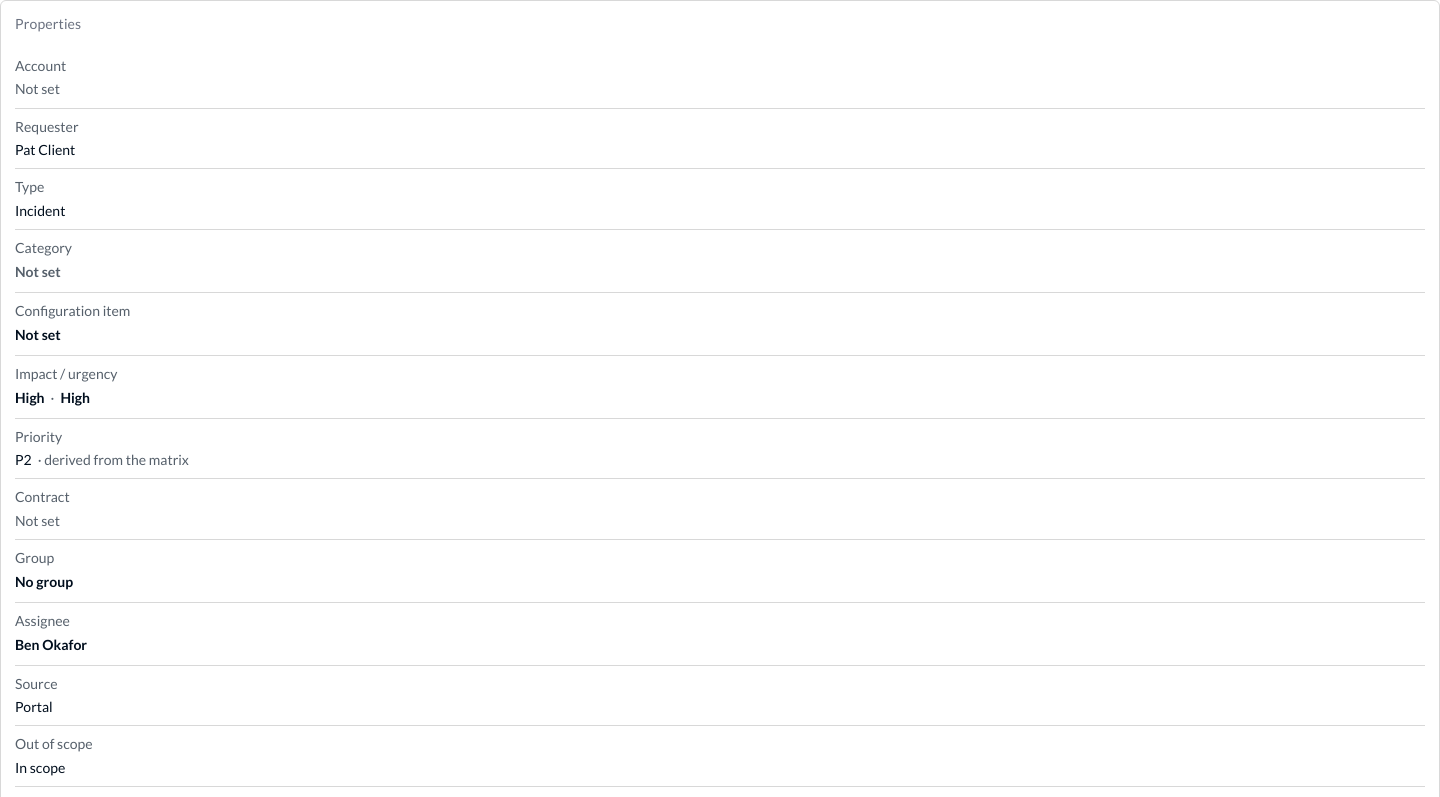
PropertiesPanel reassignment › words the refusal when the group has been retired underneath the desk
Step 1. Click the button "No group" → (44, 582), box 12,571 -> 1428,593
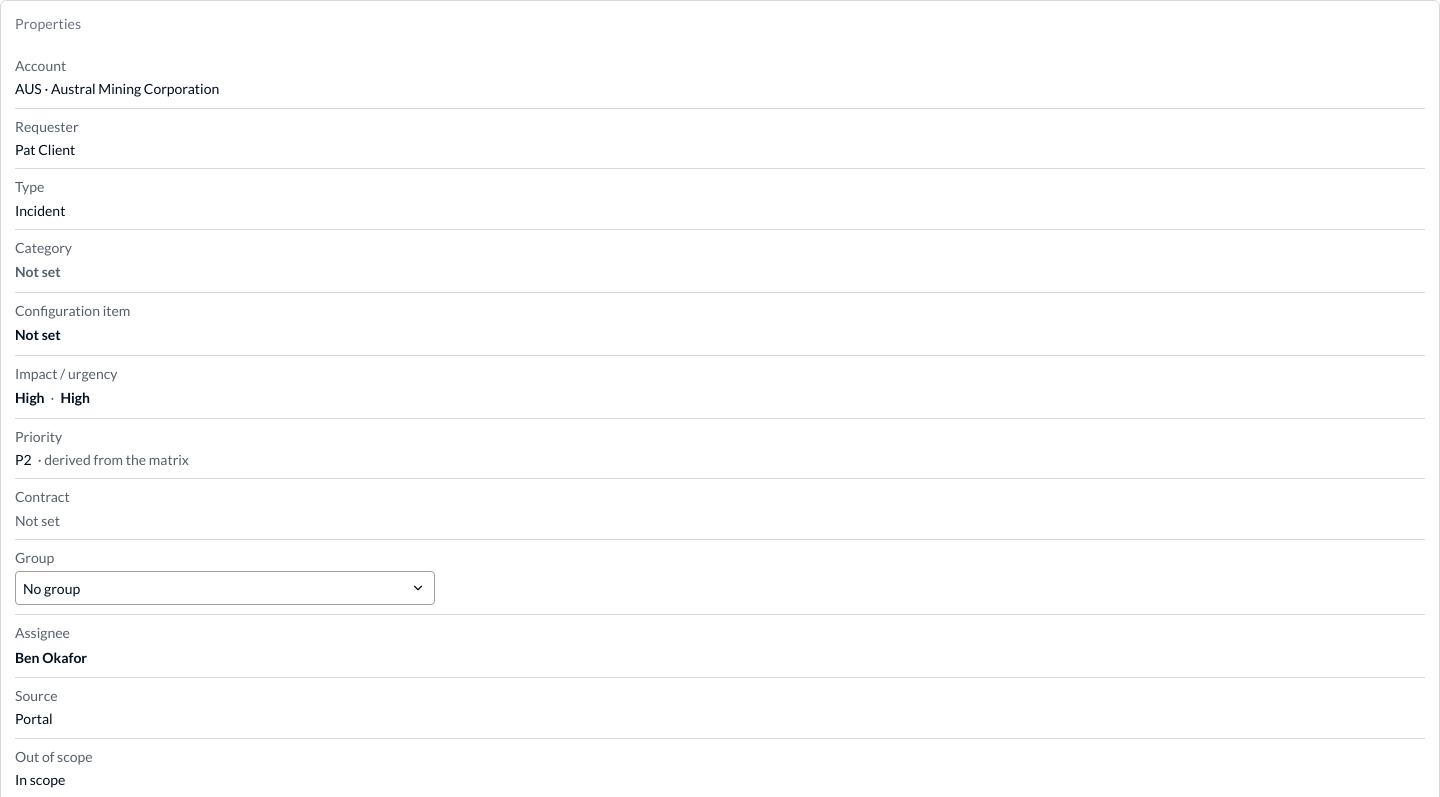
Step 2. Select "Application support" in the dropdown named "Group" → (225, 588), box 15,571 -> 435,605
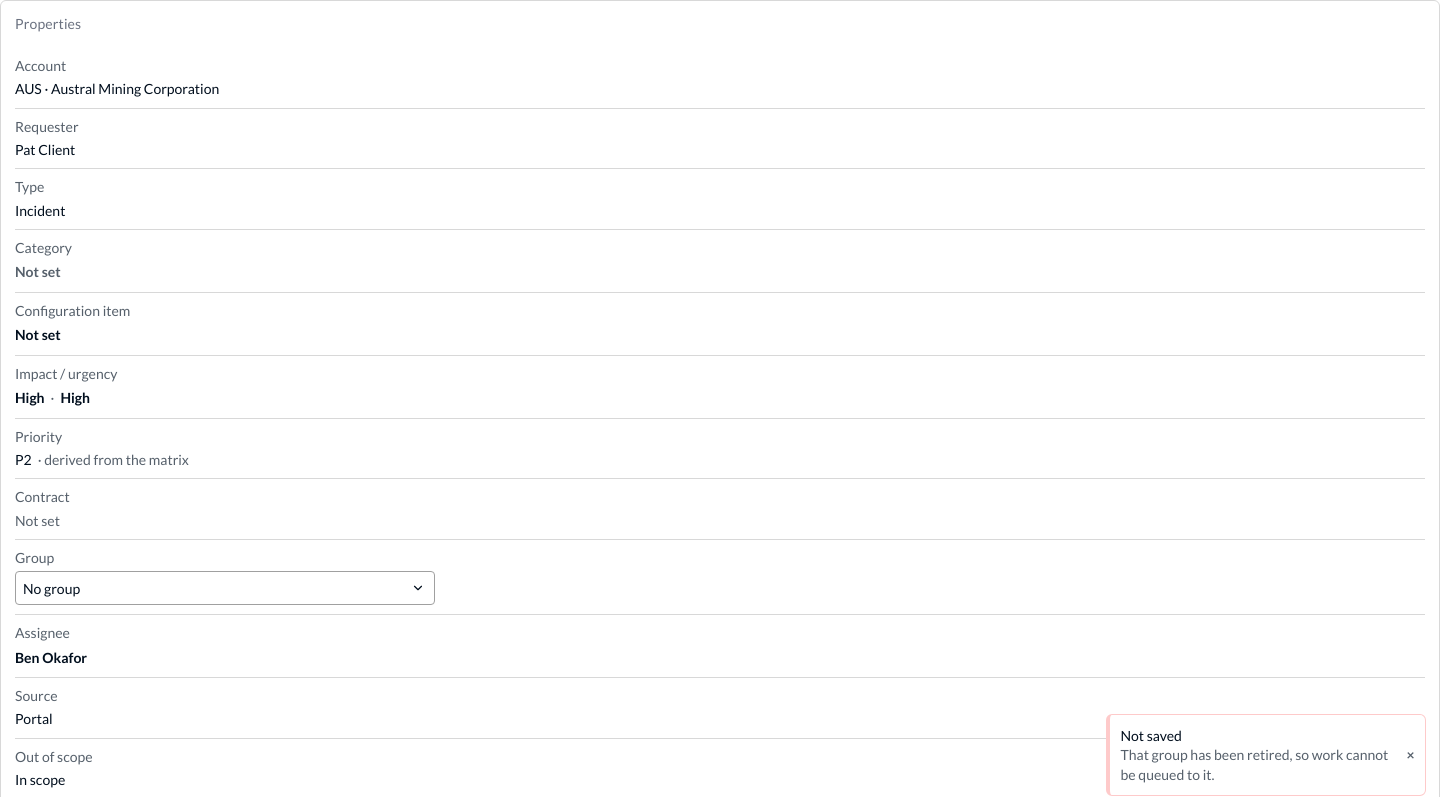
Now the text "That group has been retired, so work cannot be queued to it." is shown, box 1120,745 -> 1396,784
